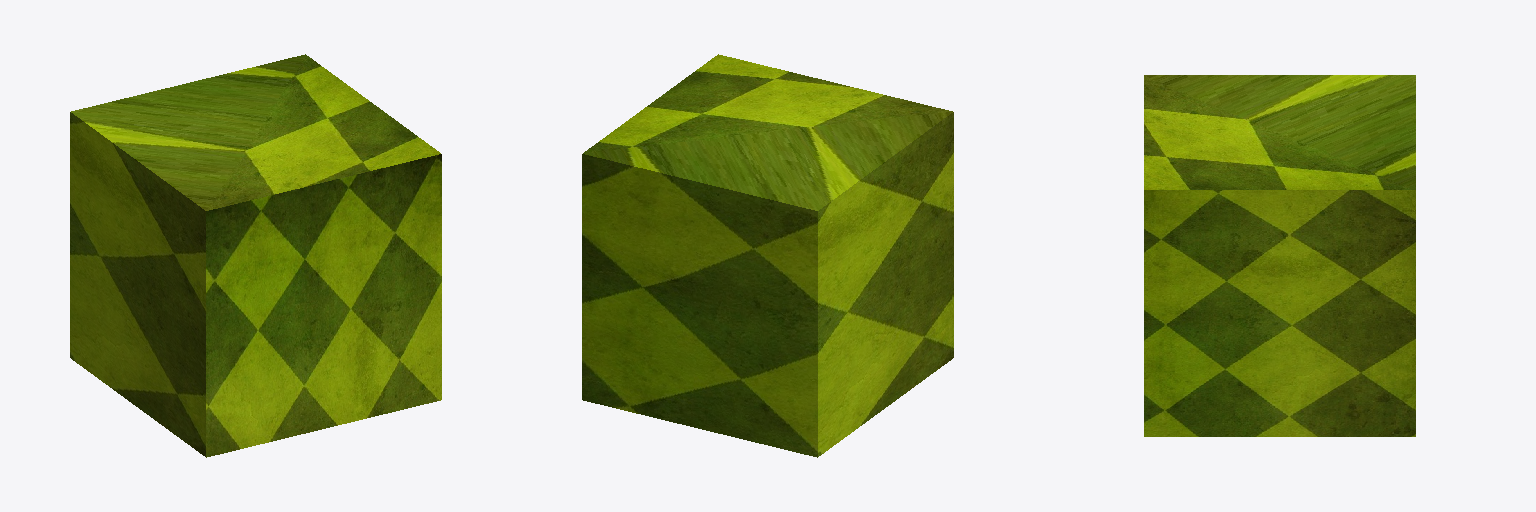
The picture shows the model from 3 angles: view 1: azimuth 30°, elevation 25°; view 2: azimuth 150°, elevation 25°; view 3: azimuth 270°, elevation 25°; orthographic projection.
Parts seen in each view (by area): view 1: Cube.001; view 2: Cube.001; view 3: Cube.001.
Boxes of the visible parts, box(x1,y1,x2,y2) form: Cube.001: box(70, 54, 441, 457); Cube.001: box(582, 54, 953, 457); Cube.001: box(1144, 75, 1415, 436).
Size of the model in its own units: 4 by 4 by 4.
Materials: 1 (1 with a texture image).